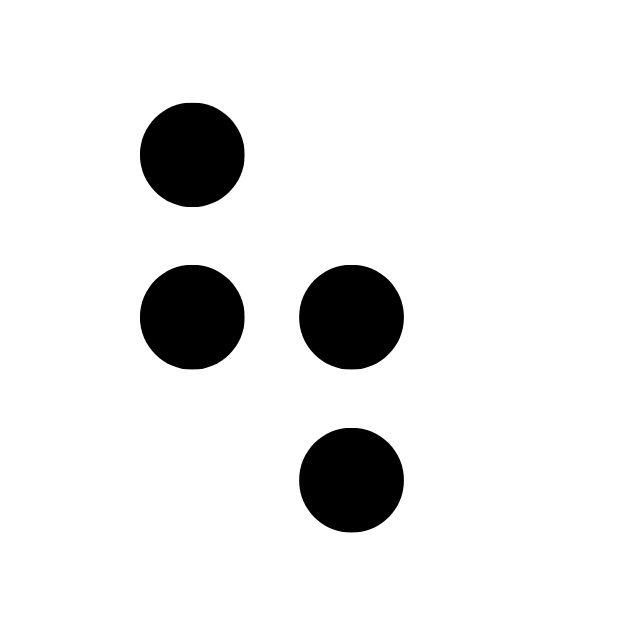tunay: (138, 101, 401, 534)
